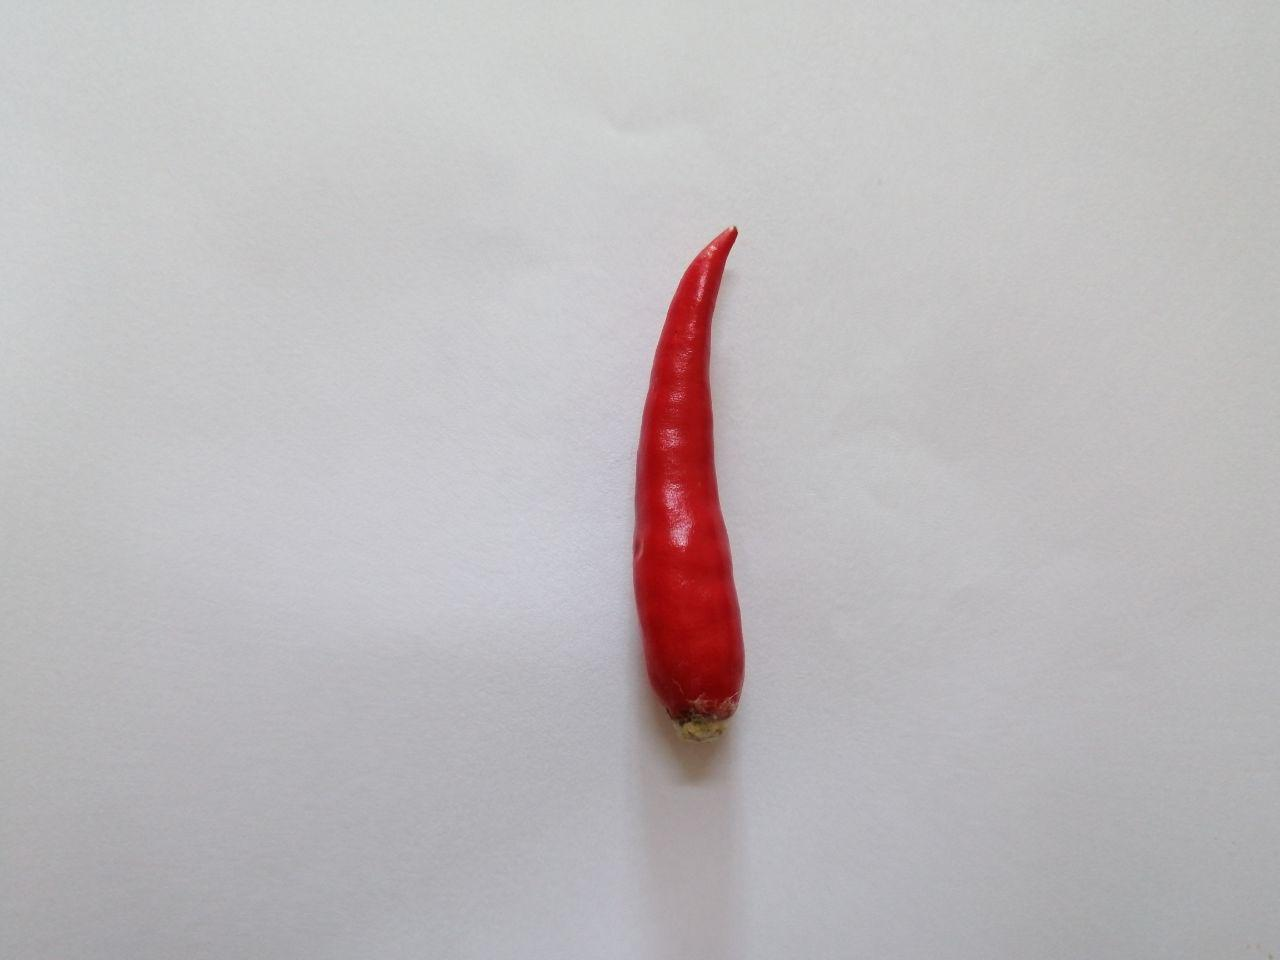lada merah: (616, 217, 781, 765)
